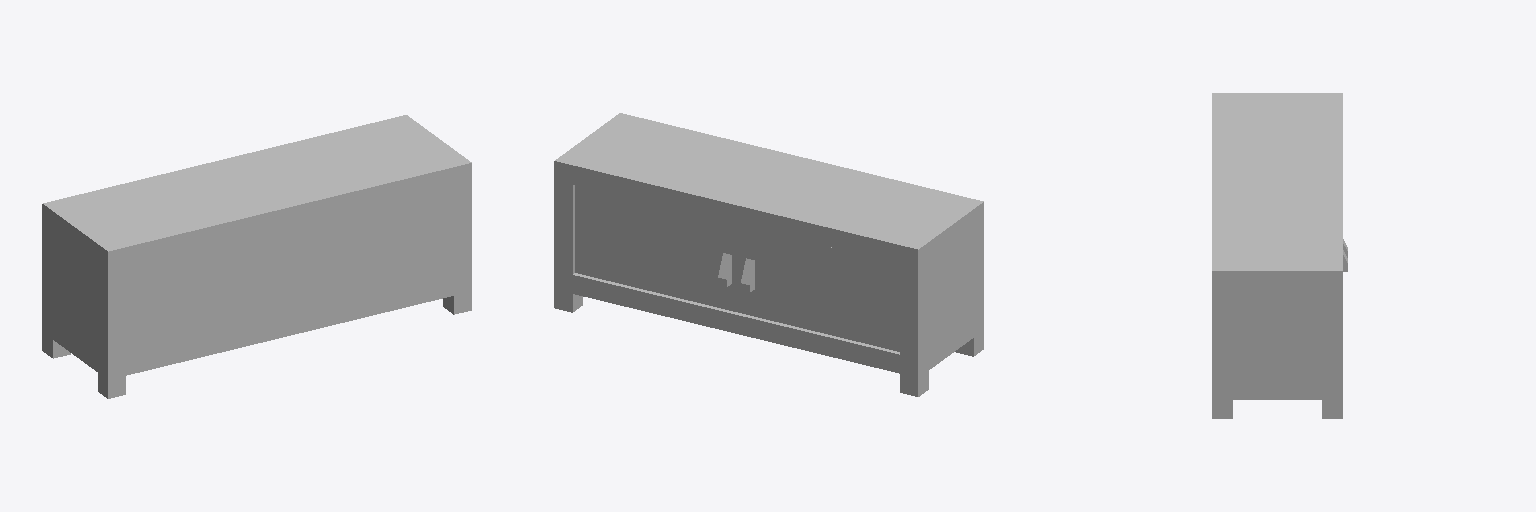
File: cabinetTelevisionDoors.obj
3 renders of one model, left to right at view 1: azimuth 30°, elevation 25°; view 2: azimuth 150°, elevation 25°; view 3: azimuth 270°, elevation 25°, orthographic.
Visible parts, largest first — view 1: cabinetTelevisionDoors; view 2: cabinetTelevisionDoors, doorLeft, doorRight; view 3: cabinetTelevisionDoors.
Boxes of the visible parts, box(x1,y1,x2,y2) form: cabinetTelevisionDoors: box(42, 115, 471, 398); cabinetTelevisionDoors: box(554, 113, 983, 396); doorLeft: box(575, 185, 738, 312); doorRight: box(739, 225, 899, 351); cabinetTelevisionDoors: box(1212, 93, 1342, 418).
Size of the model in its own units: 0.8 by 0.31 by 0.26.